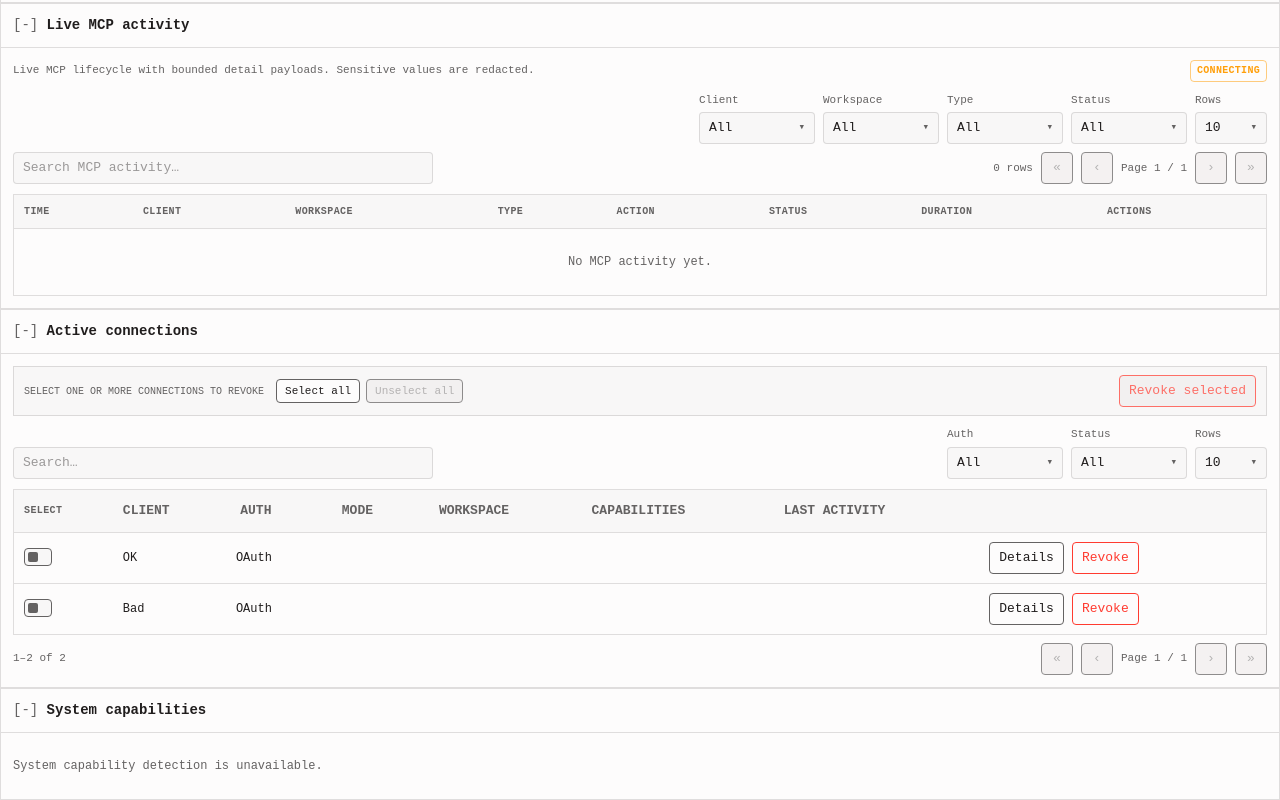
Test case: bulk revoke refreshes after partial failure and keeps failed selection
This screenshot has width=1280, height=800.
(page scrolled)
Click the switch named "Select OK".
click(38, 557)  # box [24, 547, 52, 567]
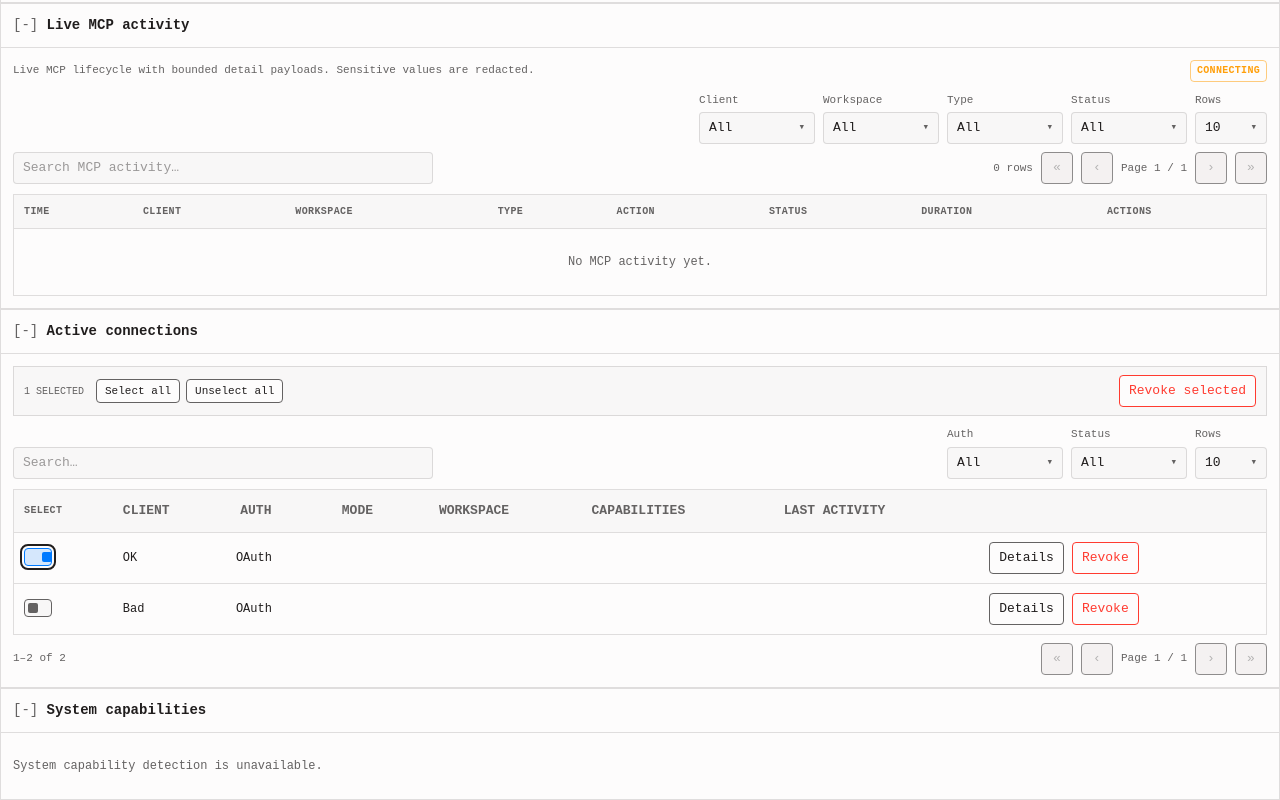
Click the switch named "Select Bad".
click(38, 608)  # box [24, 598, 52, 618]
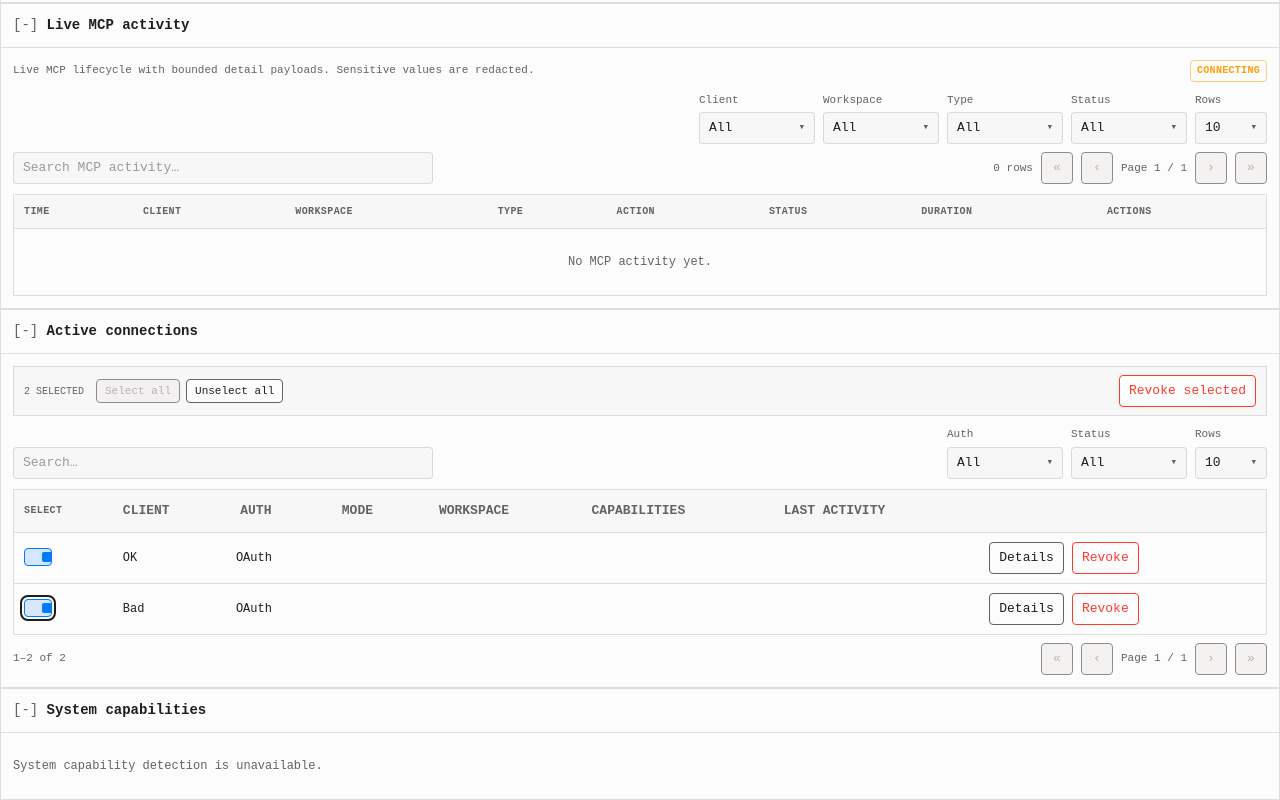
Click the button "Revoke selected".
click(1188, 391)  # box [1119, 375, 1256, 407]
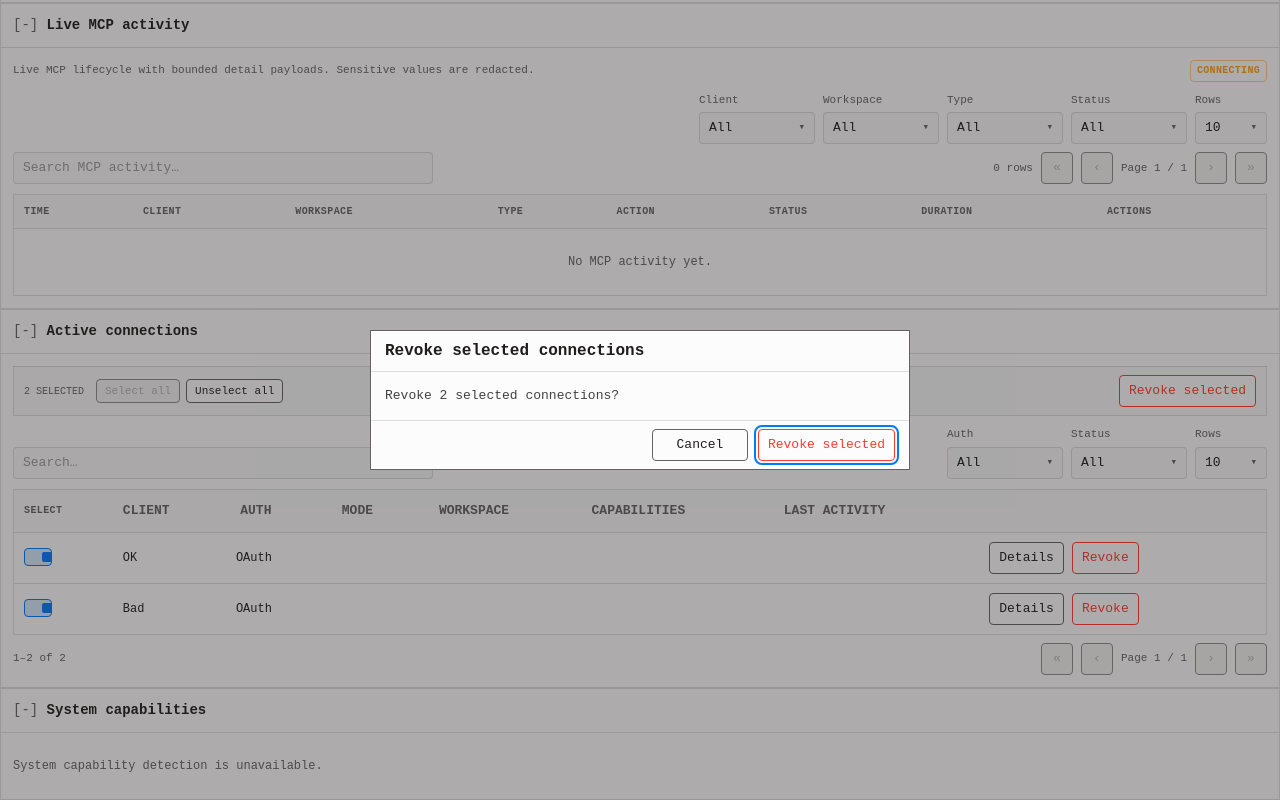
Click the button "Revoke selected".
click(826, 445)  # box [758, 429, 895, 461]
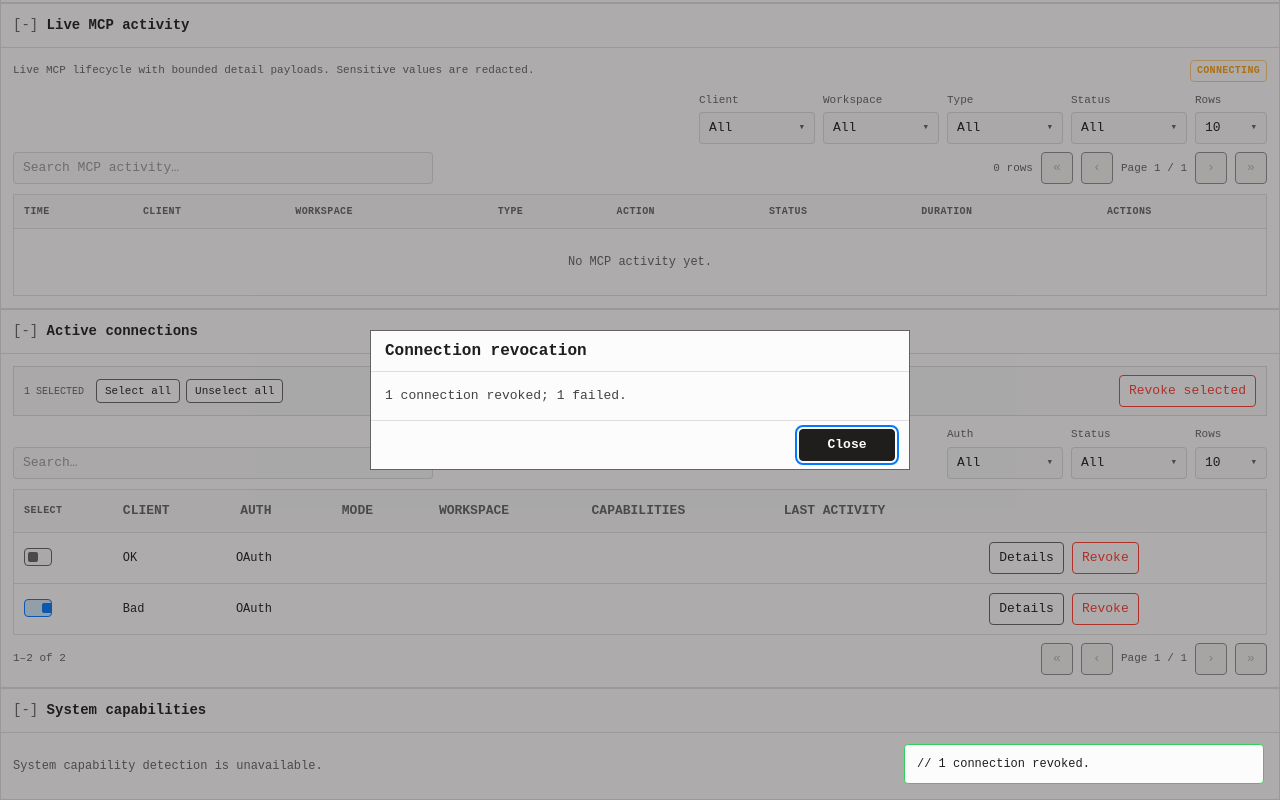
Expected: the switch named "Select Bad" is checked, [24, 598, 52, 618]
Expected: the switch named "Select OK" is not checked, [24, 547, 52, 567]
Expected: the text "1 connection revoked; 1 failed." is shown, [385, 388, 627, 403]
